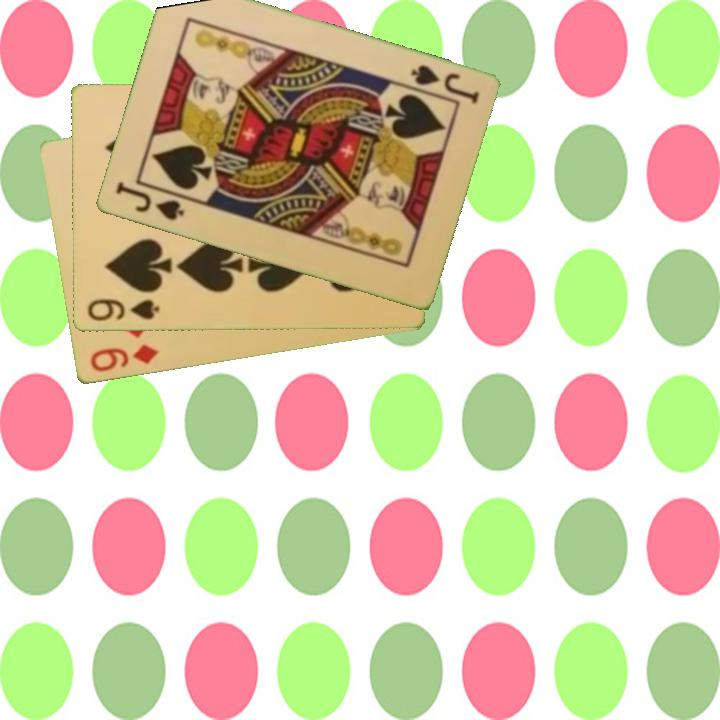9d: (86, 341, 161, 376)
9s: (84, 296, 162, 324)
Js: (111, 178, 187, 224), (406, 61, 482, 107)
